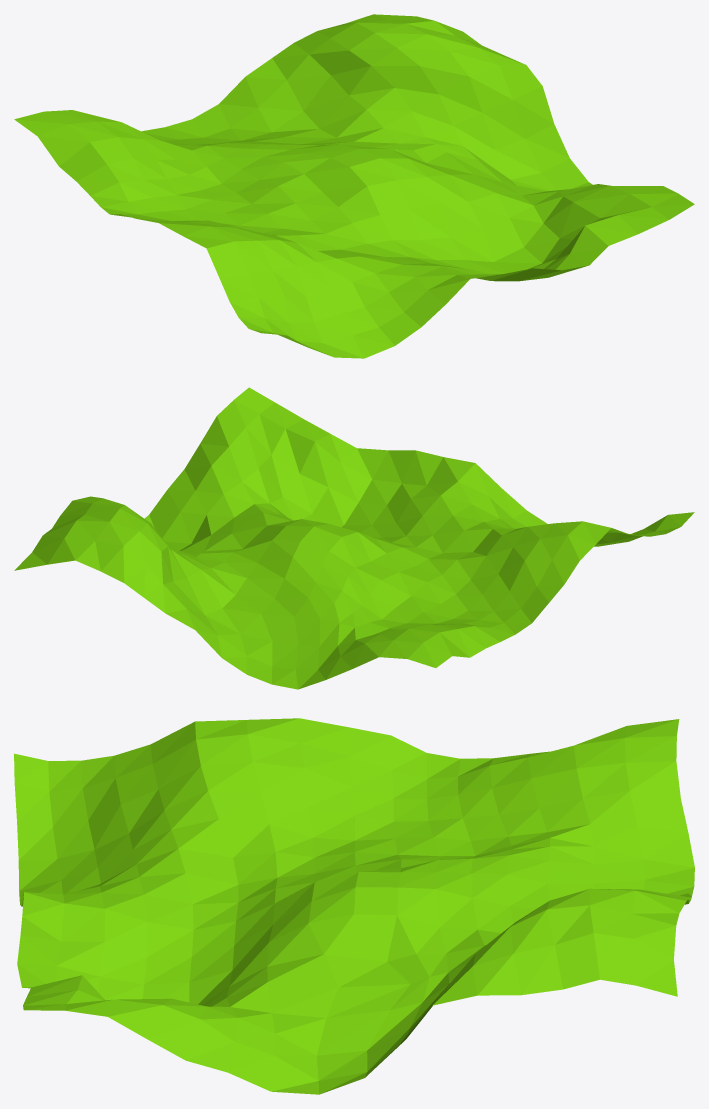
The model's file is GrassGround.fbx.
3 renders of one model, top to bottom at view 1: azimuth 30°, elevation 25°; view 2: azimuth 150°, elevation 25°; view 3: azimuth 270°, elevation 25°, orthographic. The views are drawn at different scales.
Visible parts, largest first — view 1: GrassGround; view 2: GrassGround; view 3: GrassGround.
Boxes of the visible parts, x1,y1,x2,y2 form: GrassGround: (14, 14, 694, 358); GrassGround: (14, 387, 694, 689); GrassGround: (14, 718, 694, 1094).
Size of the model in its own units: 1563 by 385 by 1573.
